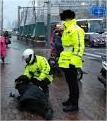bending: (20, 44, 55, 92)
down: (10, 74, 54, 121)
up: (57, 7, 87, 115)
